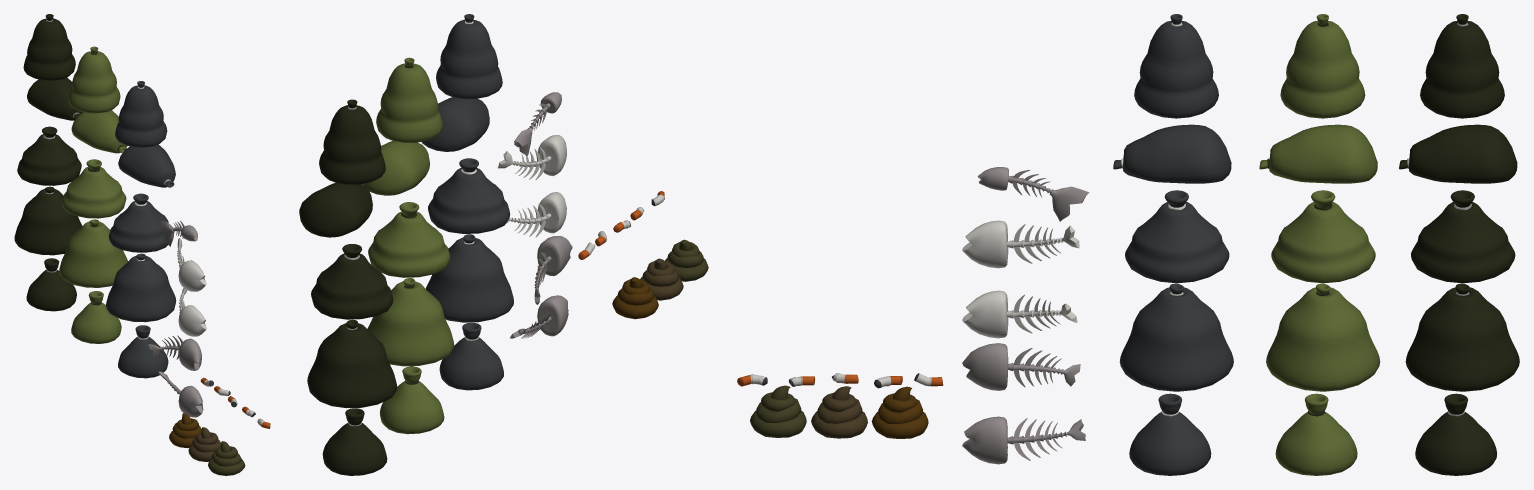
The model's file is NoRecuperables_FBX.fbx.
3 renders of one model, left to right at view 1: azimuth 30°, elevation 25°; view 2: azimuth 150°, elevation 25°; view 3: azimuth 270°, elevation 25°, orthographic. The views are drawn at different scales.
Visible parts, largest first — view 1: Bolsa_04, BolsaV_04, BolsaN_04, BolsaV_03, BolsaN_03, Bolsa_01, BolsaV_01, BolsaN_01, Bolsa_03, Bolsa_02, BolsaV_05, BolsaN_05 (+11 smaller); view 2: BolsaN_04, Bolsa_04, BolsaV_04, Bolsa_03, BolsaN_03, BolsaV_03, BolsaV_01, BolsaN_01, Bolsa_01, BolsaN_02, BolsaN_05, Bolsa_05 (+11 smaller); view 3: Bolsa_04, BolsaV_04, BolsaN_04, Bolsa_03, BolsaV_03, BolsaN_03, BolsaV_01, BolsaN_01, Bolsa_01, Bolsa_02, BolsaN_02, BolsaV_02 (+11 smaller).
Boxes of the visible parts, bbox=[...] form: Bolsa_04: bbox=[106, 253, 176, 322]; BolsaV_04: bbox=[59, 219, 128, 287]; BolsaN_04: bbox=[14, 186, 82, 255]; BolsaV_03: bbox=[62, 159, 126, 218]; BolsaN_03: bbox=[17, 126, 81, 185]; Bolsa_01: bbox=[115, 81, 167, 147]; BolsaV_01: bbox=[68, 46, 120, 113]; BolsaN_01: bbox=[23, 14, 75, 80]; Bolsa_03: bbox=[108, 193, 168, 252]; Bolsa_02: bbox=[118, 144, 175, 187]; BolsaV_05: bbox=[71, 291, 121, 343]; BolsaN_05: bbox=[26, 258, 76, 311]; BolsaN_04: bbox=[307, 319, 397, 408]; Bolsa_04: bbox=[425, 234, 513, 322]; BolsaV_04: bbox=[367, 278, 454, 366]; Bolsa_03: bbox=[428, 158, 510, 233]; BolsaN_03: bbox=[311, 244, 393, 319]; BolsaV_03: bbox=[368, 202, 450, 277]; BolsaV_01: bbox=[376, 57, 442, 142]; BolsaN_01: bbox=[319, 99, 385, 184]; Bolsa_01: bbox=[436, 14, 502, 99]; BolsaN_02: bbox=[299, 182, 372, 237]; BolsaN_05: bbox=[322, 408, 387, 475]; Bolsa_05: bbox=[439, 322, 503, 390]; Bolsa_04: bbox=[1119, 283, 1233, 391]; BolsaV_04: bbox=[1266, 283, 1380, 391]; BolsaN_04: bbox=[1405, 283, 1519, 391]; Bolsa_03: bbox=[1125, 190, 1229, 283]; BolsaV_03: bbox=[1271, 190, 1375, 283]; BolsaN_03: bbox=[1411, 190, 1515, 283]; BolsaV_01: bbox=[1280, 14, 1365, 118]; BolsaN_01: bbox=[1420, 14, 1504, 118]; Bolsa_01: bbox=[1134, 14, 1218, 118]; Bolsa_02: bbox=[1113, 124, 1231, 183]; BolsaN_02: bbox=[1399, 124, 1517, 183]; BolsaV_02: bbox=[1259, 124, 1377, 183].
Bounding box in the file's own units: 1.42 × 4.39 × 6.88.
